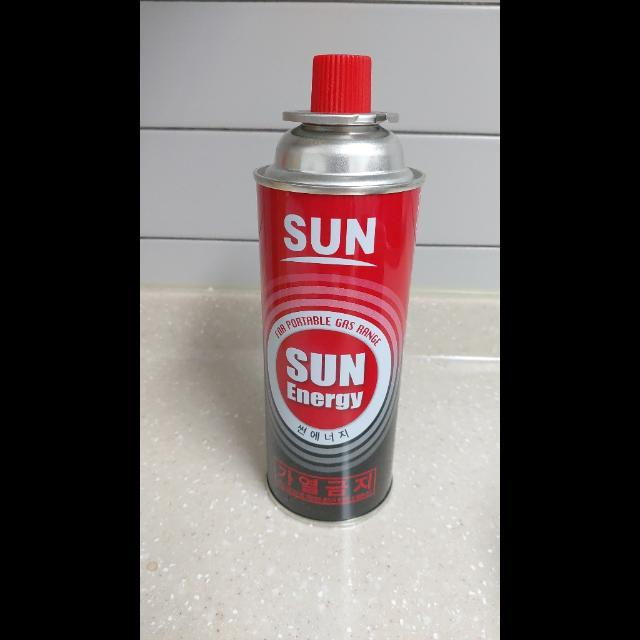chemical_spray_can: (252, 48, 430, 530)
